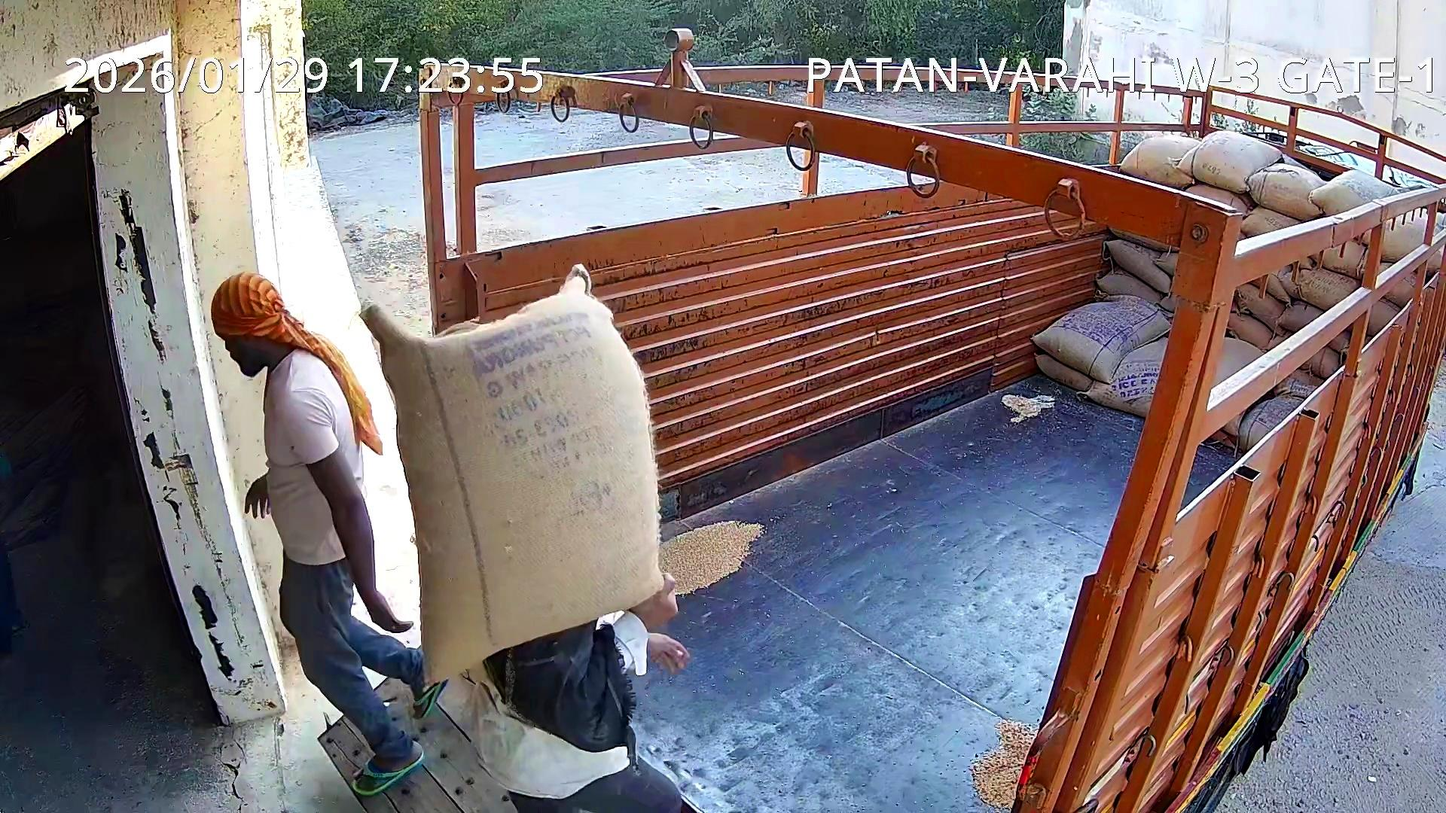Sack: (362, 266, 660, 679)
